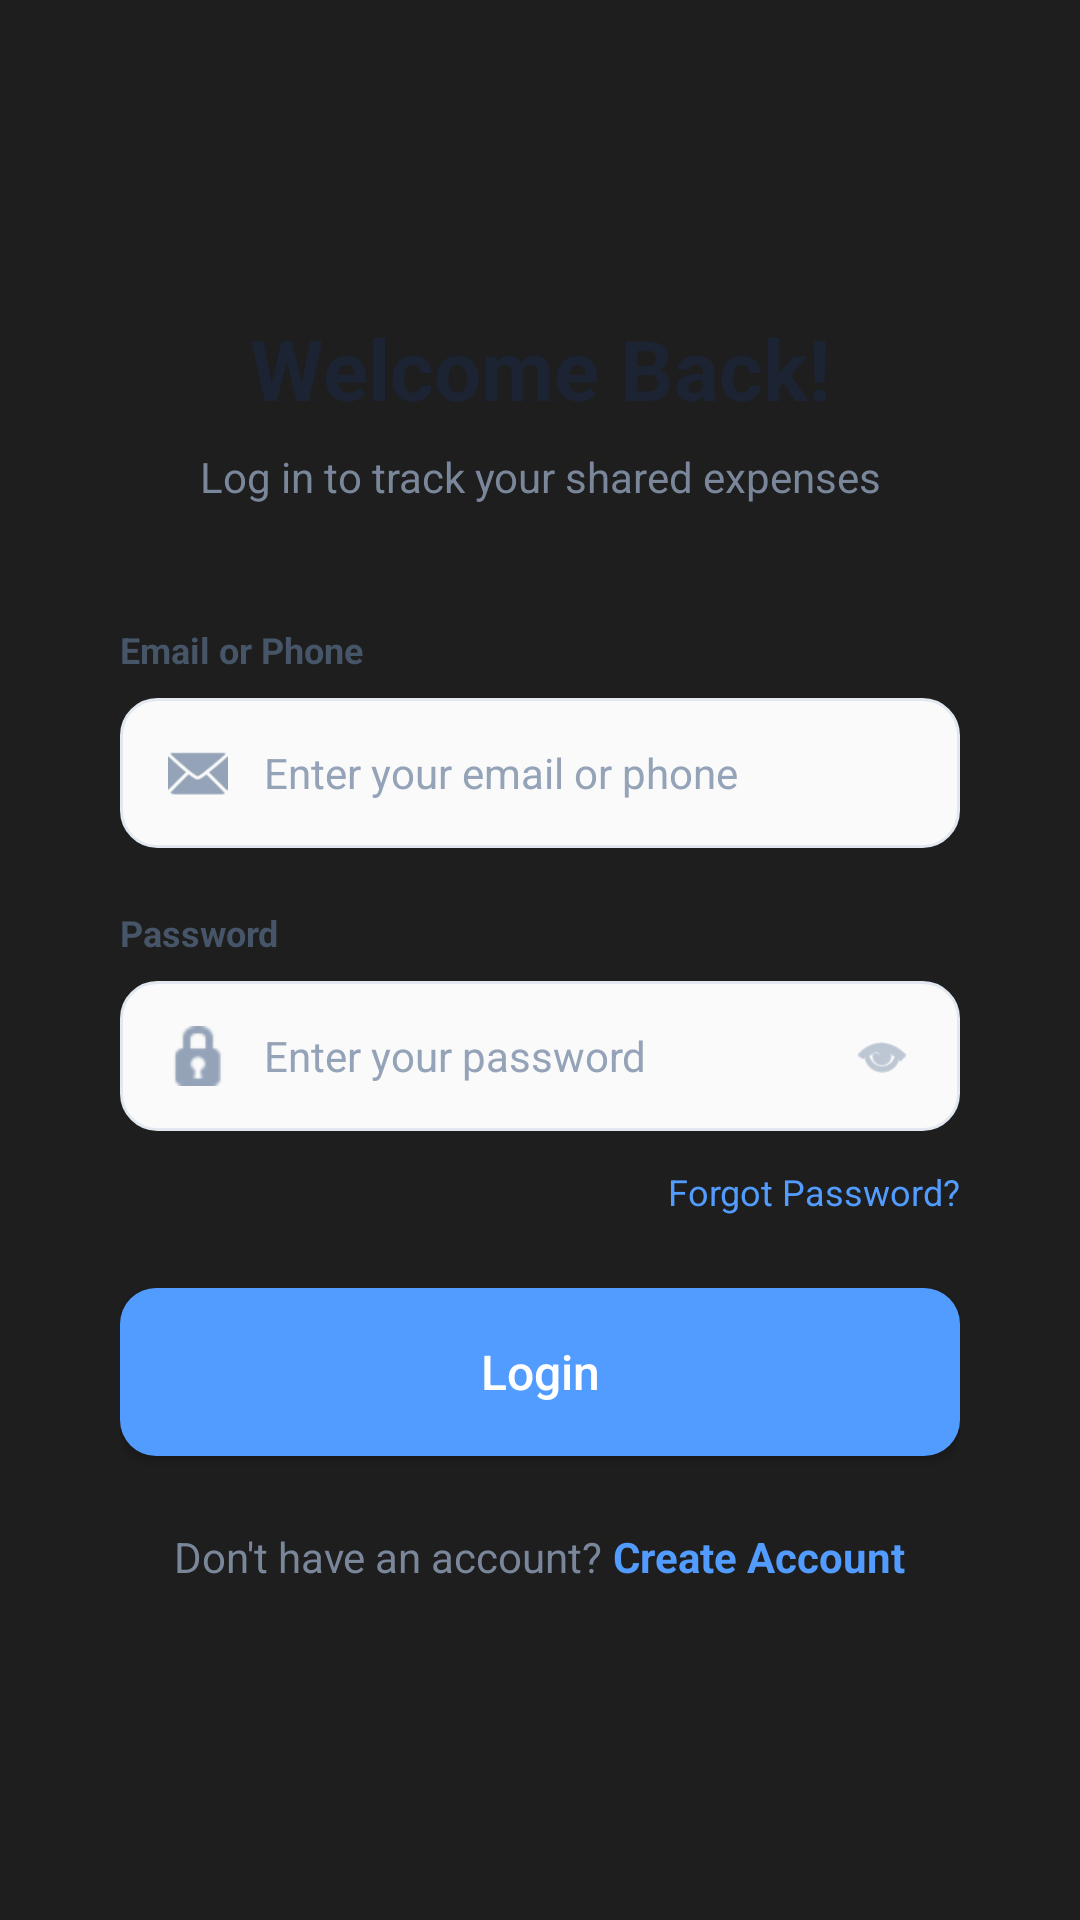

Where icons sit on this 1080*1920 app screen, as (x1, y1, x2, y2):
secure: (175, 1026, 221, 1086)
view: (858, 1042, 906, 1073)
